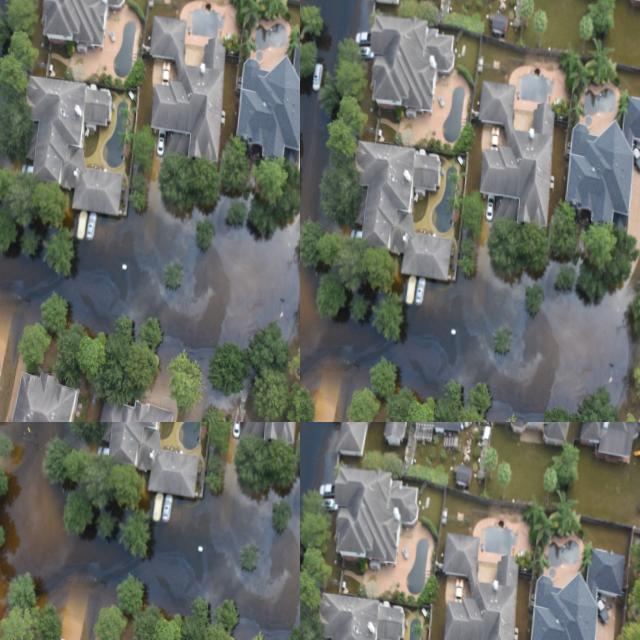fire: (475, 18, 640, 371), (0, 422, 161, 640), (300, 422, 336, 507)
